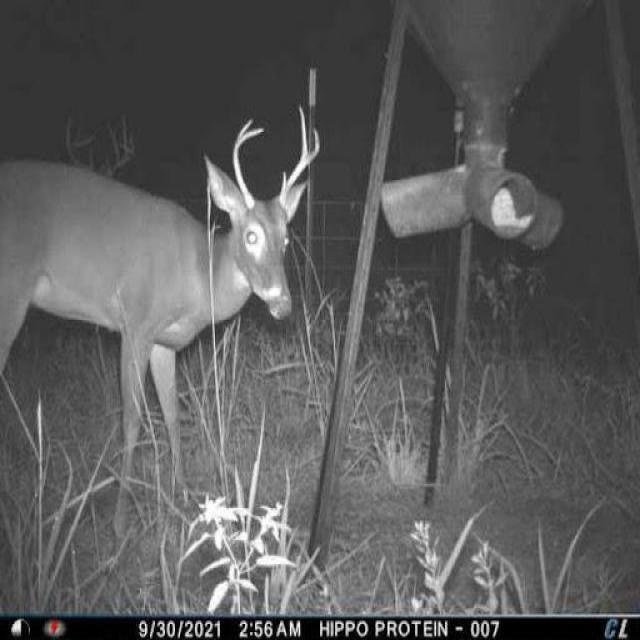deer: (0, 97, 330, 538)
